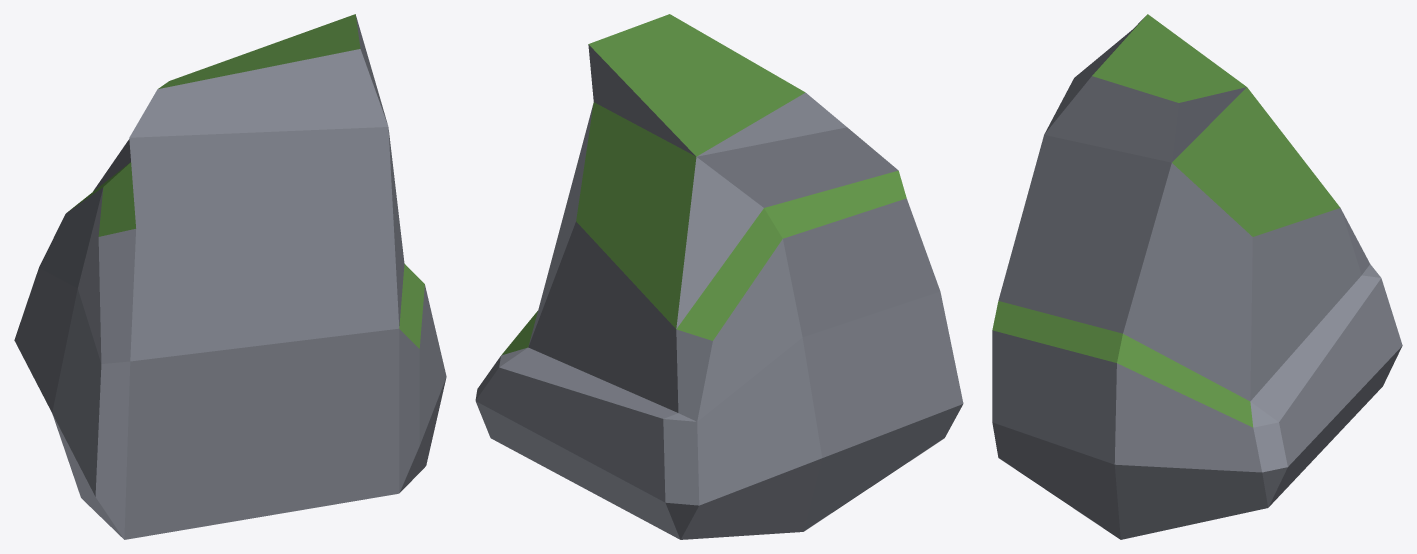
The model's file is Rock_Moss_2.glb.
3 renders of one model, left to right at view 1: azimuth 30°, elevation 25°; view 2: azimuth 150°, elevation 25°; view 3: azimuth 270°, elevation 25°, orthographic. The views are drawn at different scales.
Visible parts, largest first — view 1: Rock_Moss_2; view 2: Rock_Moss_2; view 3: Rock_Moss_2.
Part boxes in pixels (bbox=[...]): Rock_Moss_2: bbox=[14, 14, 446, 539]; Rock_Moss_2: bbox=[475, 14, 963, 539]; Rock_Moss_2: bbox=[992, 14, 1402, 539].
Size of the model in its own units: 0.5019 by 0.5329 by 0.4648.
